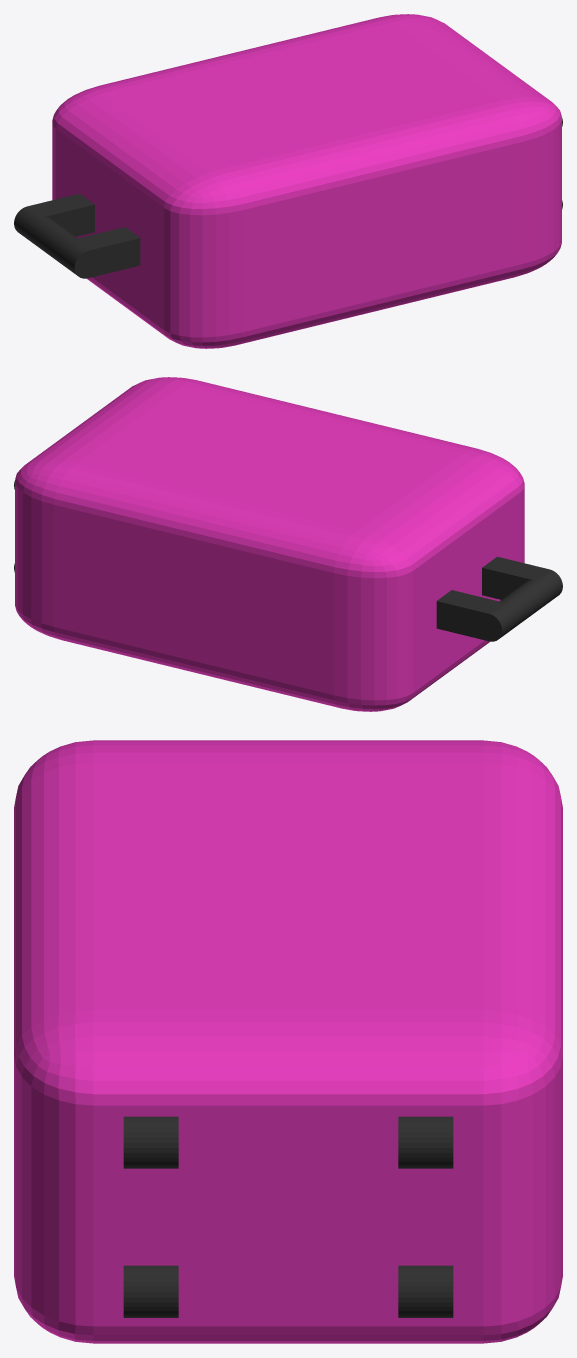
The model's file is koffer_carmen.glb.
3 views of the same model, one above another, from view 1: azimuth 30°, elevation 25°; view 2: azimuth 150°, elevation 25°; view 3: azimuth 270°, elevation 25° (orthographic). The views are drawn at different scales.
Parts seen in each view (by area): view 1: Cube, Cylinder.004, Cube.001, Cube.002; view 2: Cube, Cylinder.004, Cube.002, Cube.001; view 3: Cube, Cylinder, Cylinder.001, Cylinder.002, Cylinder.003.
Boxes of the visible parts, <box> form: Cube: <box>52,14,561,348</box>; Cylinder.004: <box>14,206,100,278</box>; Cube.001: <box>73,227,140,278</box>; Cube.002: <box>27,193,94,236</box>; Cube: <box>15,377,524,711</box>; Cylinder.004: <box>477,569,562,641</box>; Cube.002: <box>436,590,503,641</box>; Cube.001: <box>482,556,549,599</box>; Cube: <box>14,740,562,1343</box>; Cylinder: <box>123,1265,178,1317</box>; Cylinder.001: <box>123,1116,178,1168</box>; Cylinder.002: <box>398,1116,453,1168</box>; Cylinder.003: <box>398,1265,453,1317</box>.
Size of the model in its own units: 0.72 by 0.25 by 0.4.
